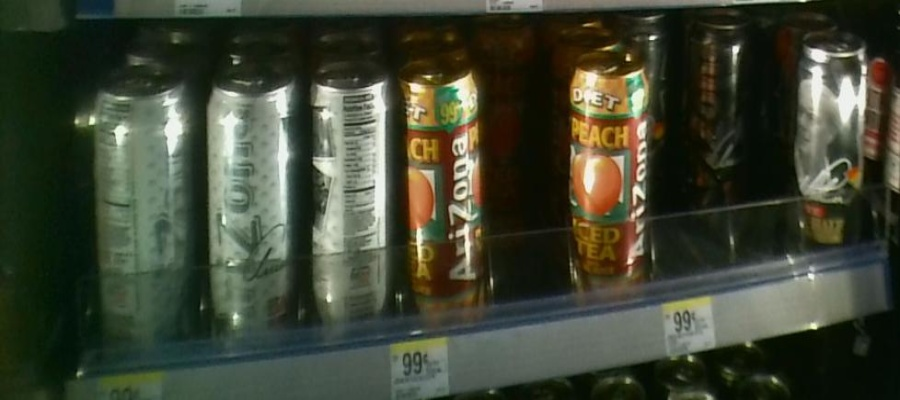bottle: (90, 68, 200, 351), (206, 58, 301, 347), (395, 53, 486, 335), (303, 53, 389, 339), (571, 50, 653, 308), (789, 30, 867, 259), (693, 15, 751, 172)
